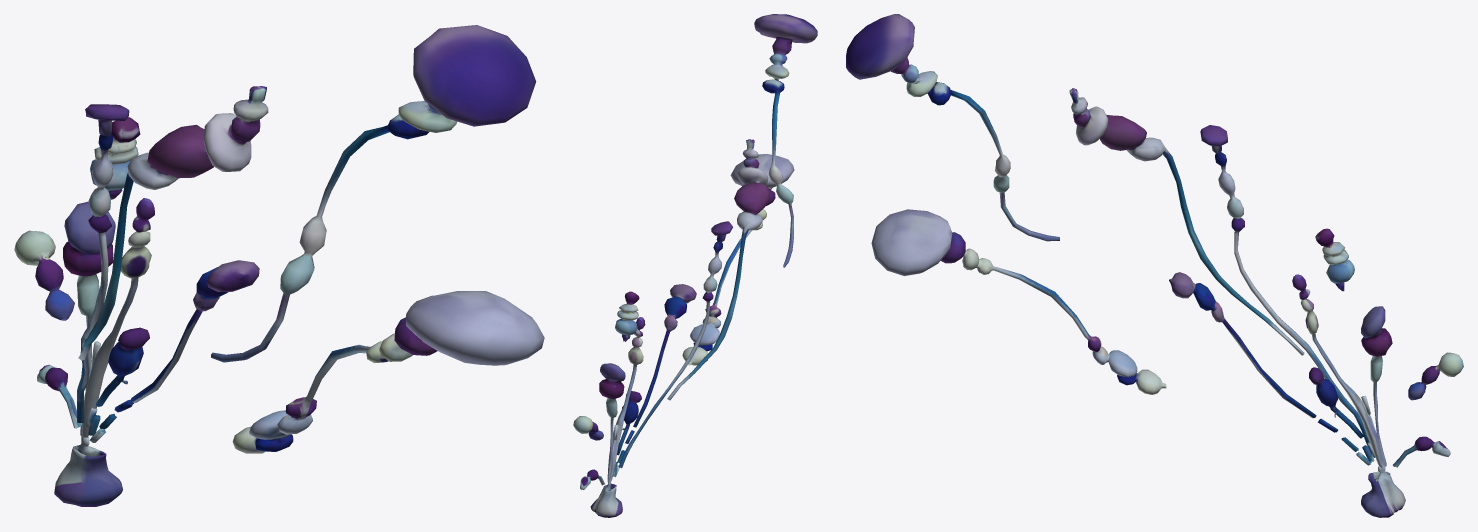
The model's file is 0cdac62b-e8d8-410d-8e8d-274bac428abb.glb.
3 views of the same model, side by side, from view 1: azimuth 30°, elevation 25°; view 2: azimuth 150°, elevation 25°; view 3: azimuth 270°, elevation 25° (orthographic). The views are drawn at different scales.
Parts seen in each view (by area): view 1: tripo_node_22985138-92c3-4c22-a9a5-d07e4834d960; view 2: tripo_node_22985138-92c3-4c22-a9a5-d07e4834d960; view 3: tripo_node_22985138-92c3-4c22-a9a5-d07e4834d960.
Part boxes in pixels (<box>): tripo_node_22985138-92c3-4c22-a9a5-d07e4834d960: <box>14,25,544,506</box>; tripo_node_22985138-92c3-4c22-a9a5-d07e4834d960: <box>573,14,817,517</box>; tripo_node_22985138-92c3-4c22-a9a5-d07e4834d960: <box>846,14,1463,517</box>.
Bounding box in the file's own units: 0.2877 × 0.8826 × 1.
1 material, 1 textured.
